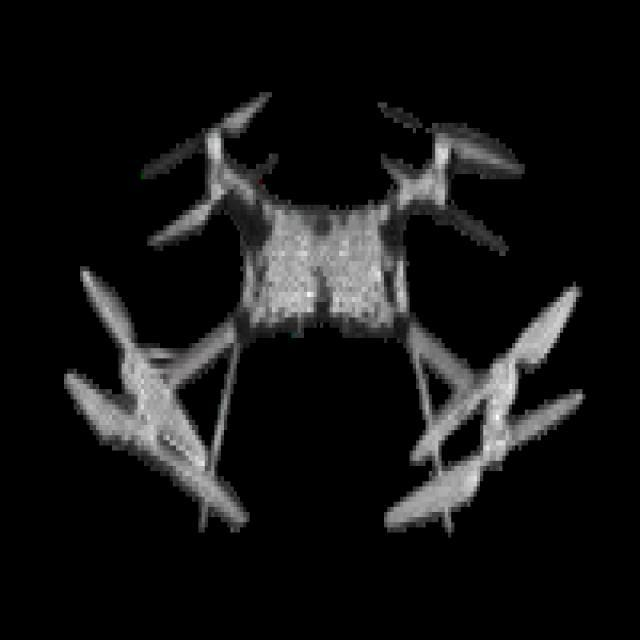drone: (62, 80, 602, 530)
